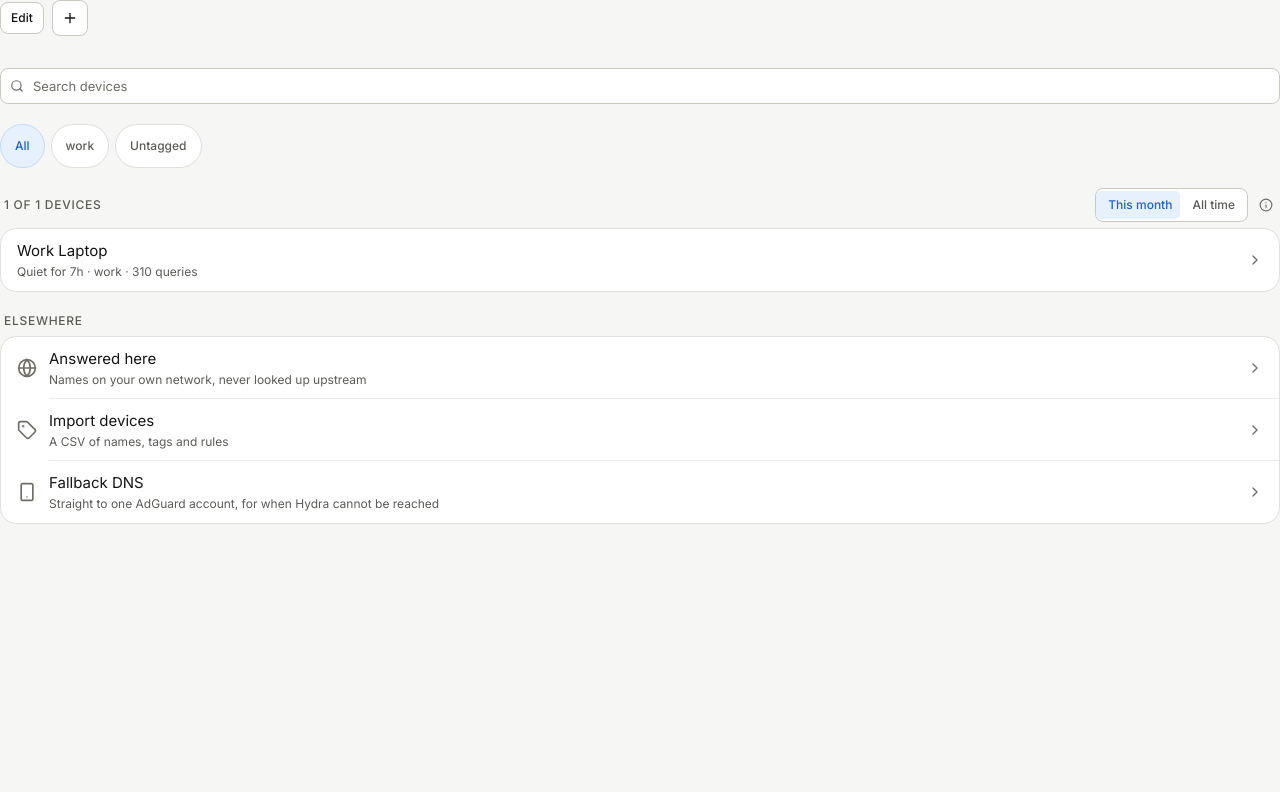
Test case: a quiet device › says so at the top of its screen on a phone
The image size is (1280, 792).
Click the button "Work Laptop Quiet for 7h · work · 310 queries".
click(62, 250)  # box [1,229,1279,291]
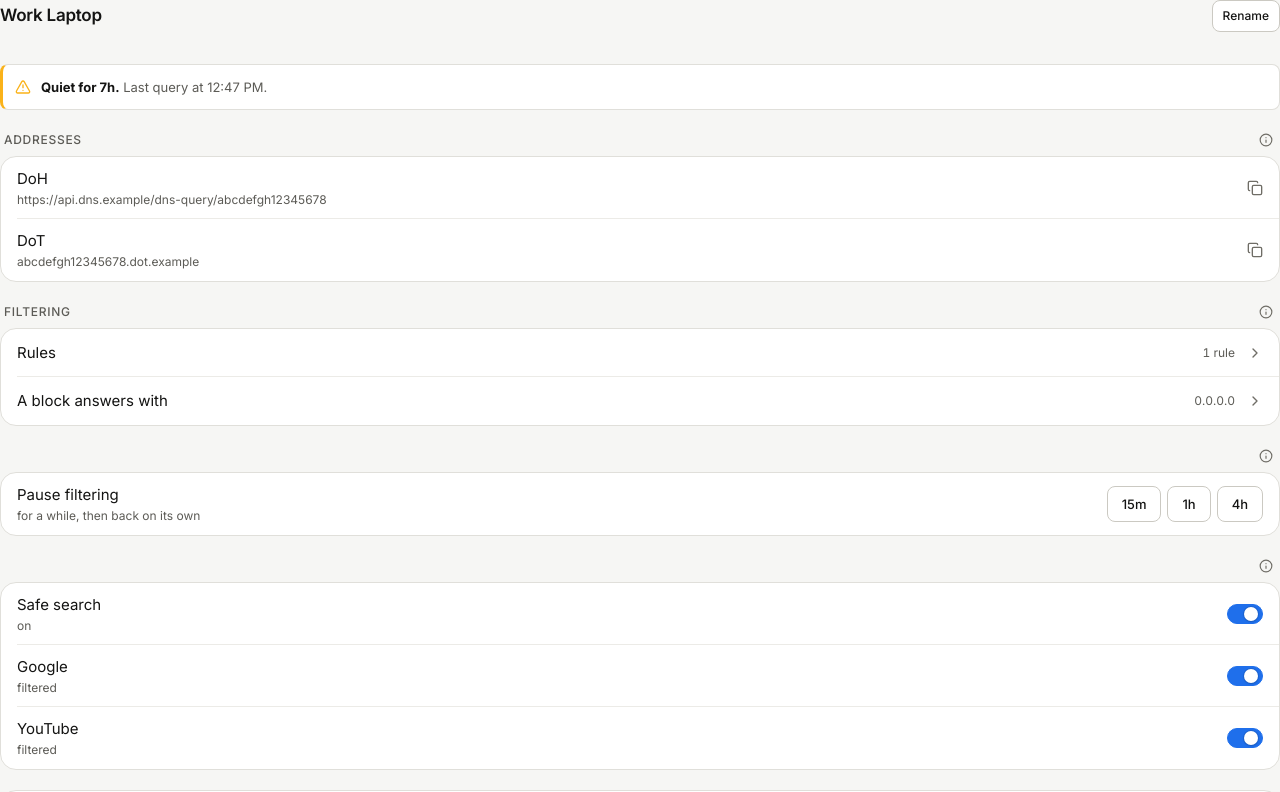
Now the text "Quiet for 7h." is shown, box [41,79,120,95]
Now the text "Quiet for 7h. Last query at 12:47 PM." is shown, box [41,79,267,95]
